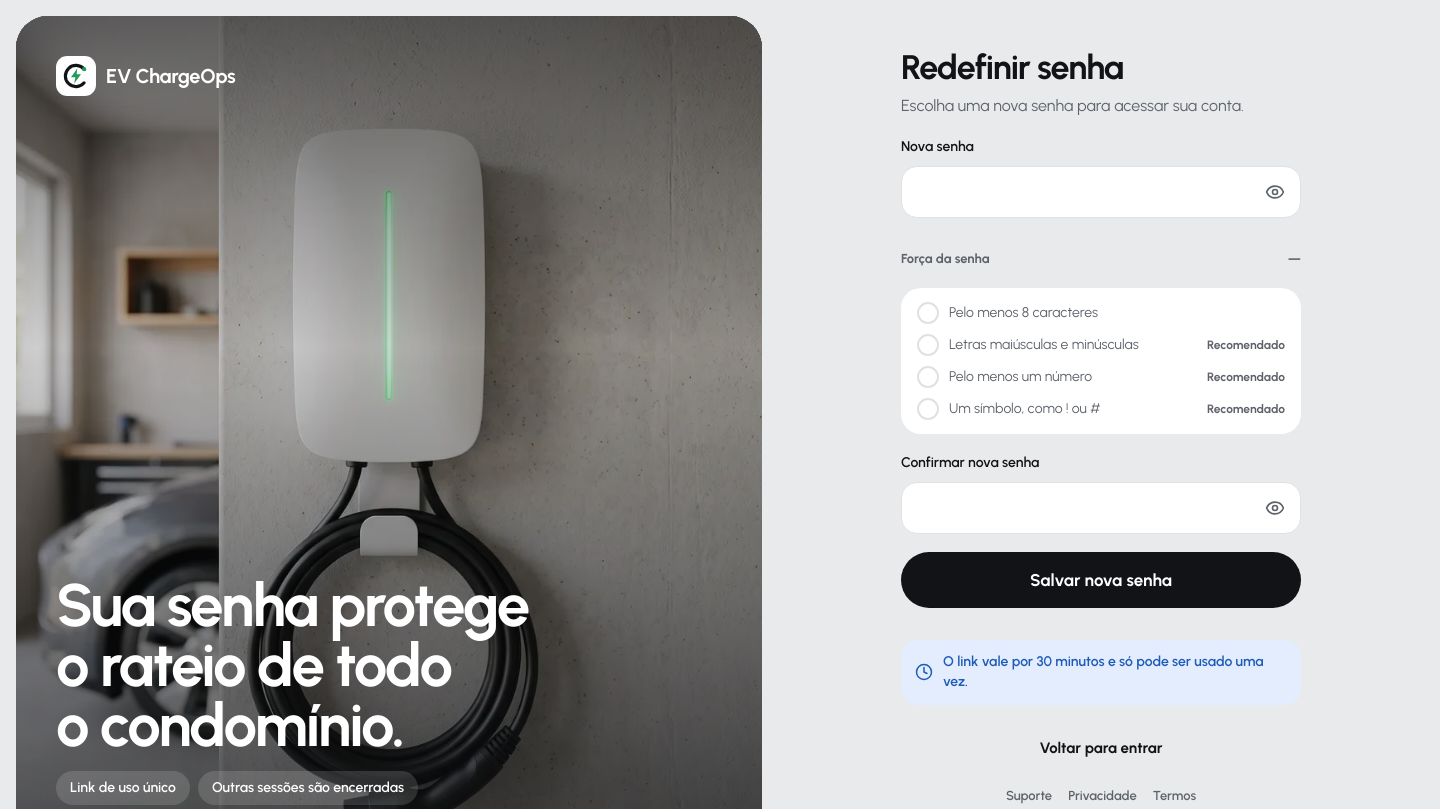
ResetPasswordRoute › grades the new password and confirms when both match
Expected: the text "Sua senha protege o rateio de todo o condomínio." is shown, [56, 575, 576, 755]
Type "senha" into the password field labelled "Nova senha".
click(1101, 192); type("senha")  # box [901, 166, 1301, 218]
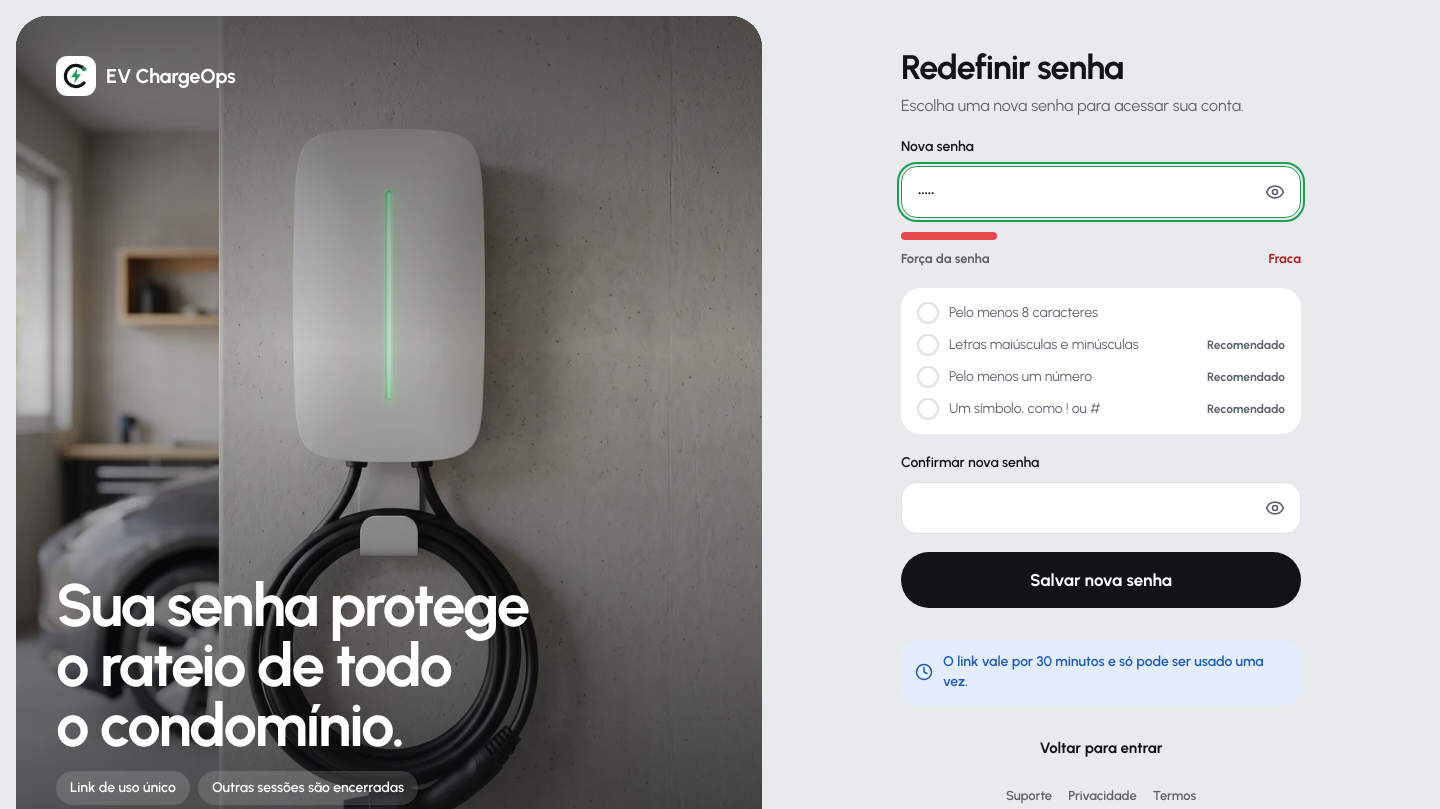
Now the text "Fraca" is shown, box [1269, 248, 1301, 270]
Type "Forte2026!" into the password field labelled "Nova senha".
click(1101, 192); type("Forte2026!")  # box [901, 166, 1301, 218]
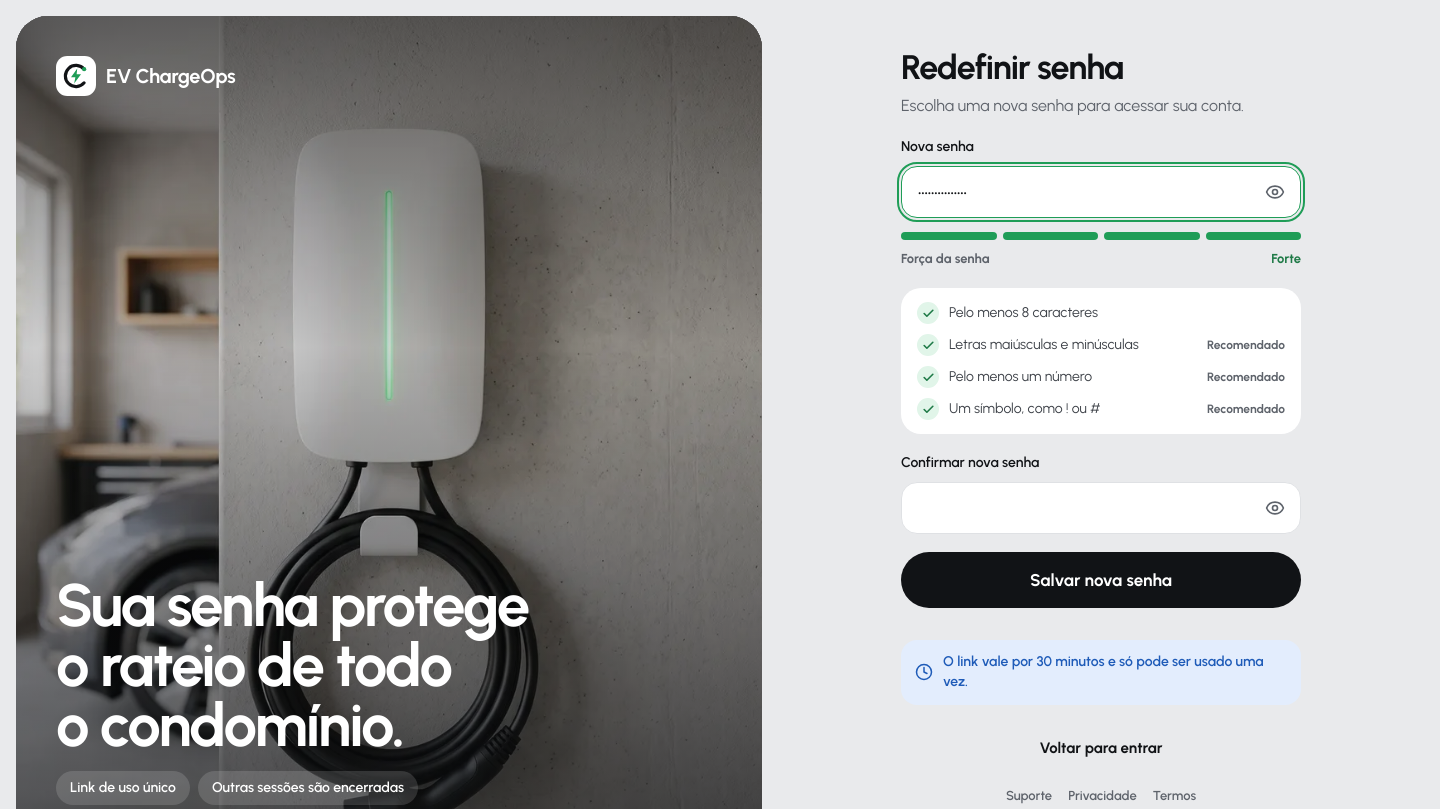
Now the text "Forte" is shown, box [1271, 248, 1301, 270]
Type "senhaForte2026!" into the password field labelled "Confirmar nova senha".
click(1101, 508); type("senhaForte2026!")  # box [901, 482, 1301, 534]
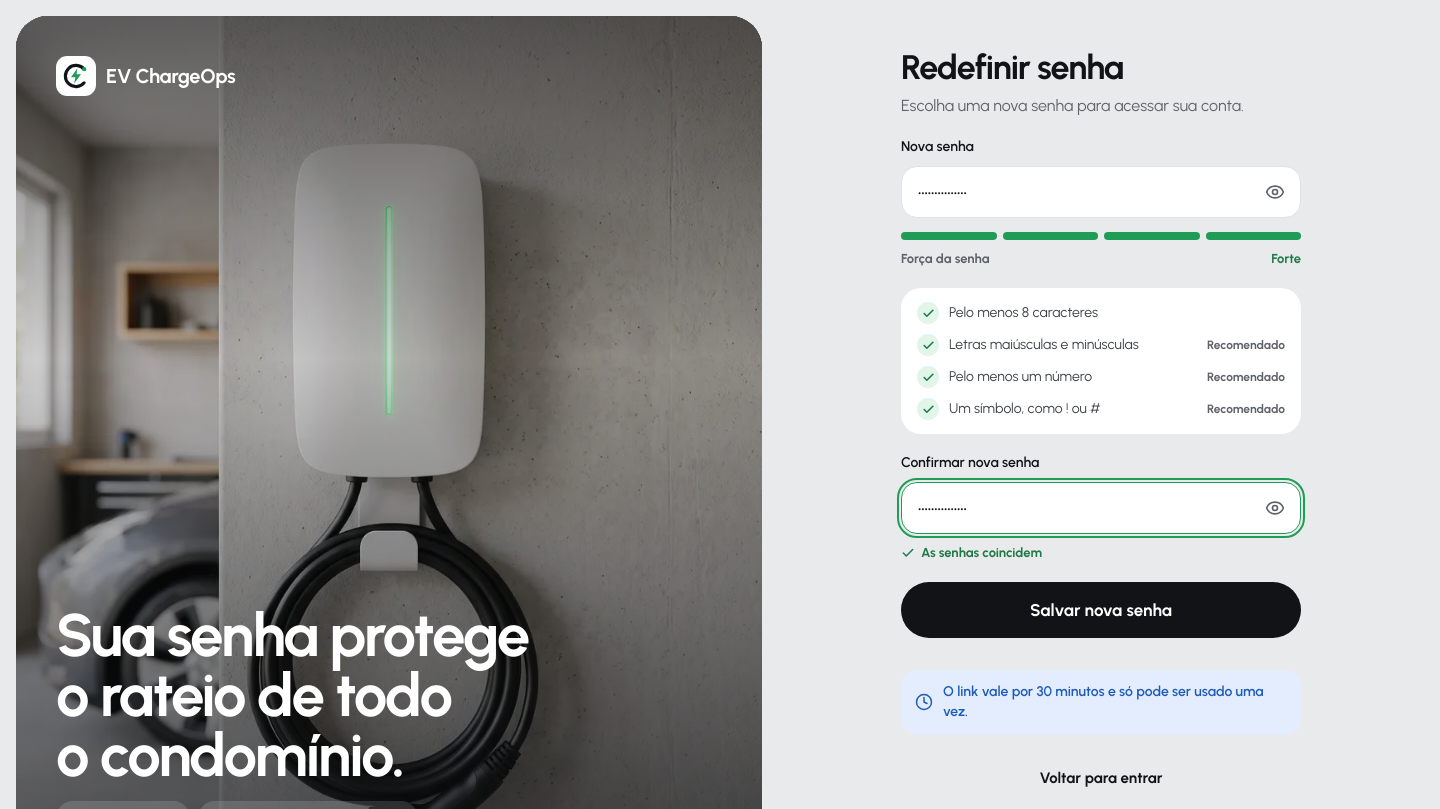
Now the text "As senhas coincidem" is shown, box [901, 545, 1042, 560]
Click the 1st button named "Mostrar senha".
click(1275, 192)  # box [1253, 170, 1297, 214]
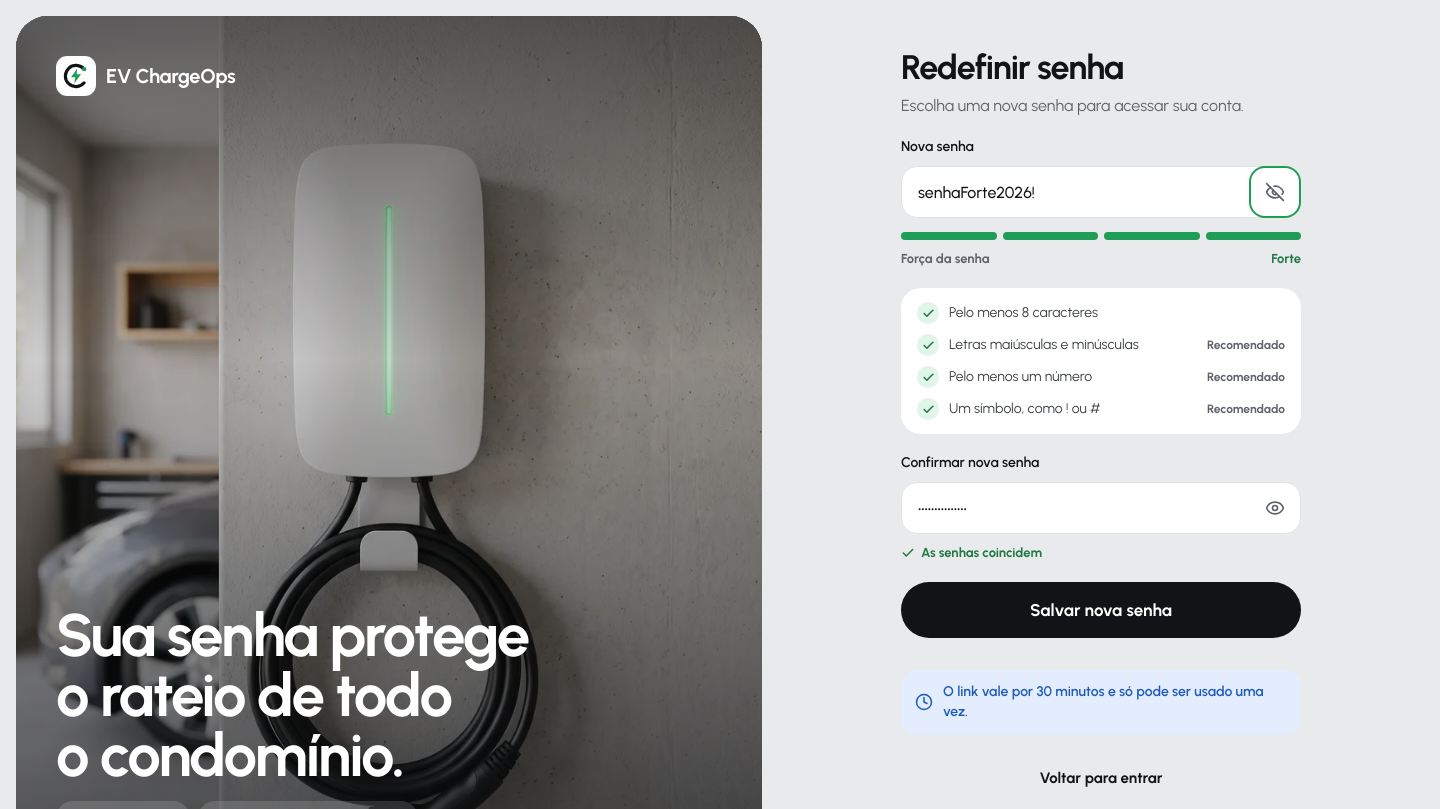
Now the field labelled "Nova senha" shows its text, box [901, 166, 1301, 218]
